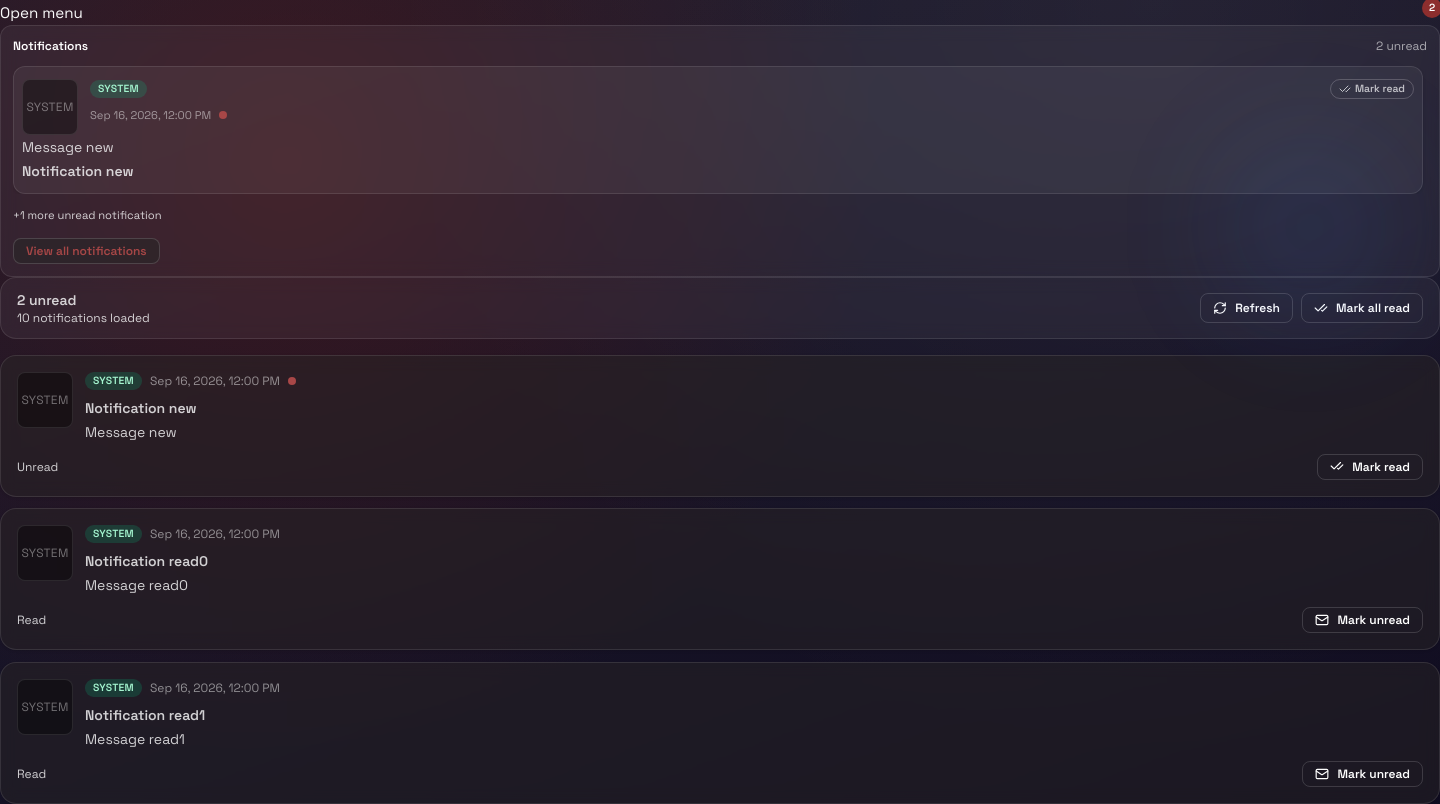
notification menu and center › reading the last loaded unread item replenishes from beyond the loaded page
Click the 2nd button "Mark read".
click(1370, 466)  # box [1317,453,1423,479]
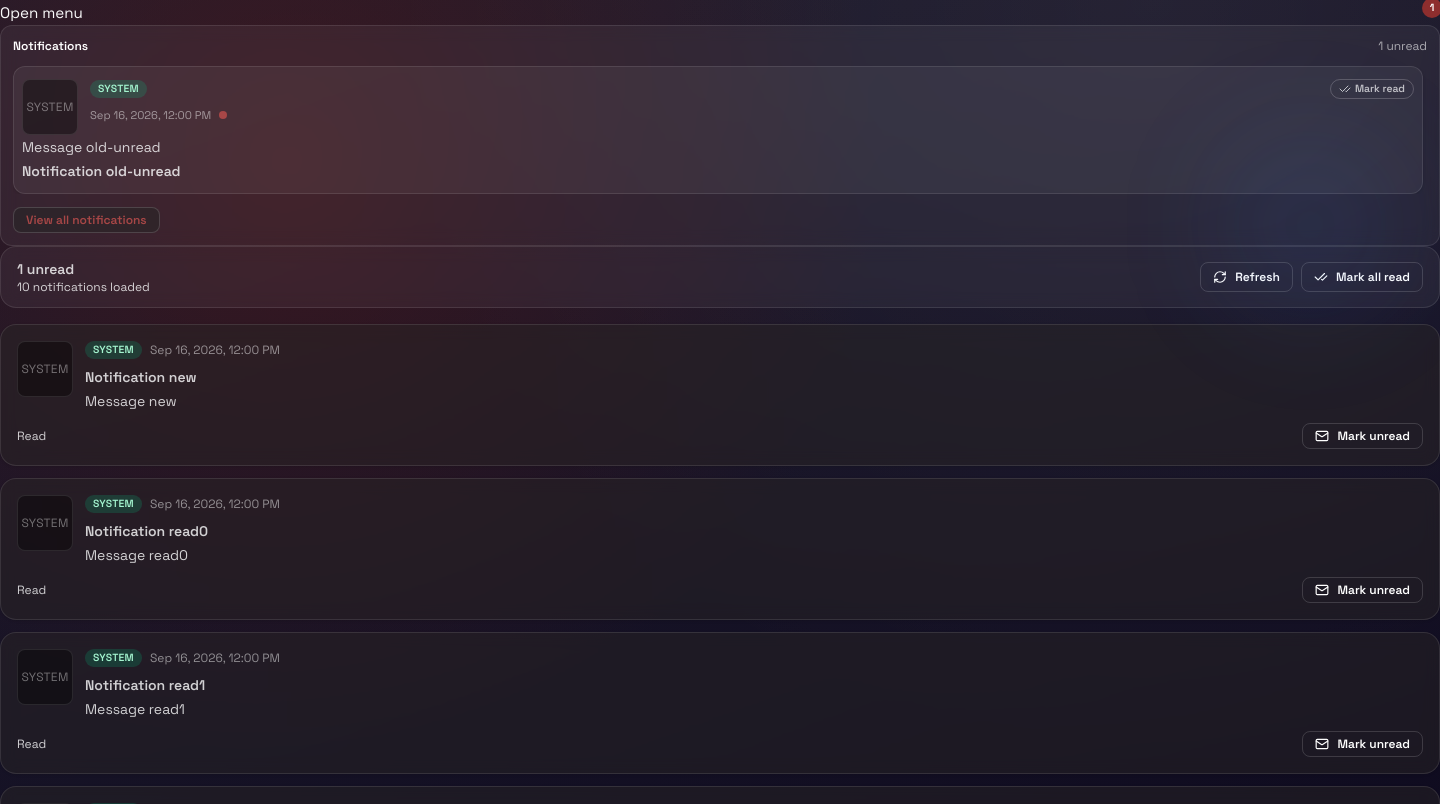
expect the text "Notification old-unread" is shown: met, box [22,162,181,180]
expect the text "1 unread" is shown: met, box [1378,38,1427,54]
